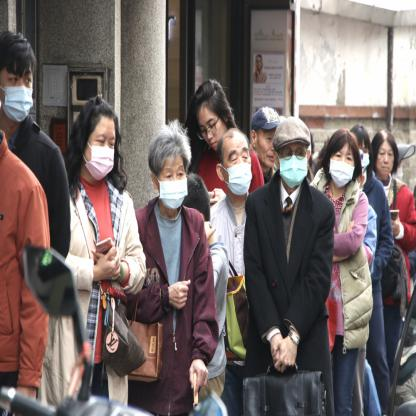Not_Wearing_Mask: (196, 114, 224, 152), (373, 143, 396, 180), (259, 127, 277, 170)
Wearing_Mask: (2, 68, 34, 126), (85, 130, 116, 182), (157, 162, 188, 211), (226, 143, 252, 197), (278, 145, 308, 188), (328, 148, 355, 189), (357, 143, 371, 173)
